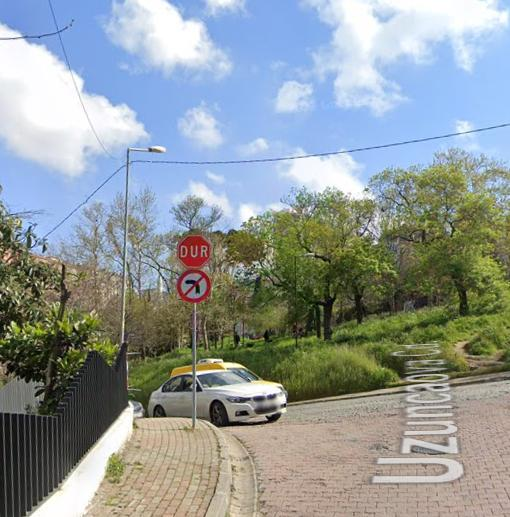leftturnsareforbidden: (179, 270, 207, 298)
stop: (179, 238, 210, 268)
